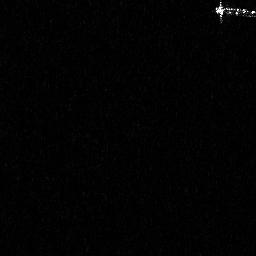ship: (213, 1, 256, 24)
